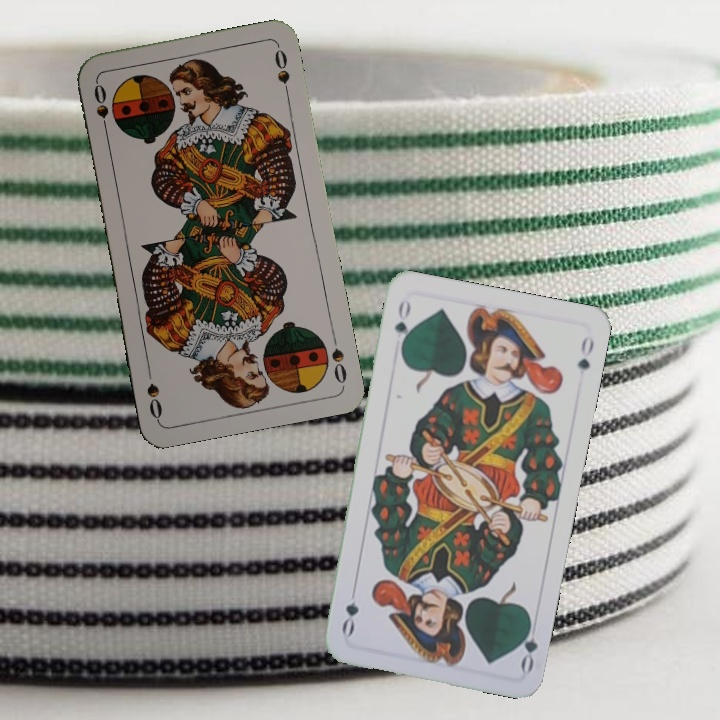GO: (513, 614, 541, 674), (390, 295, 414, 354)
SO: (327, 329, 349, 386), (90, 78, 111, 137)
